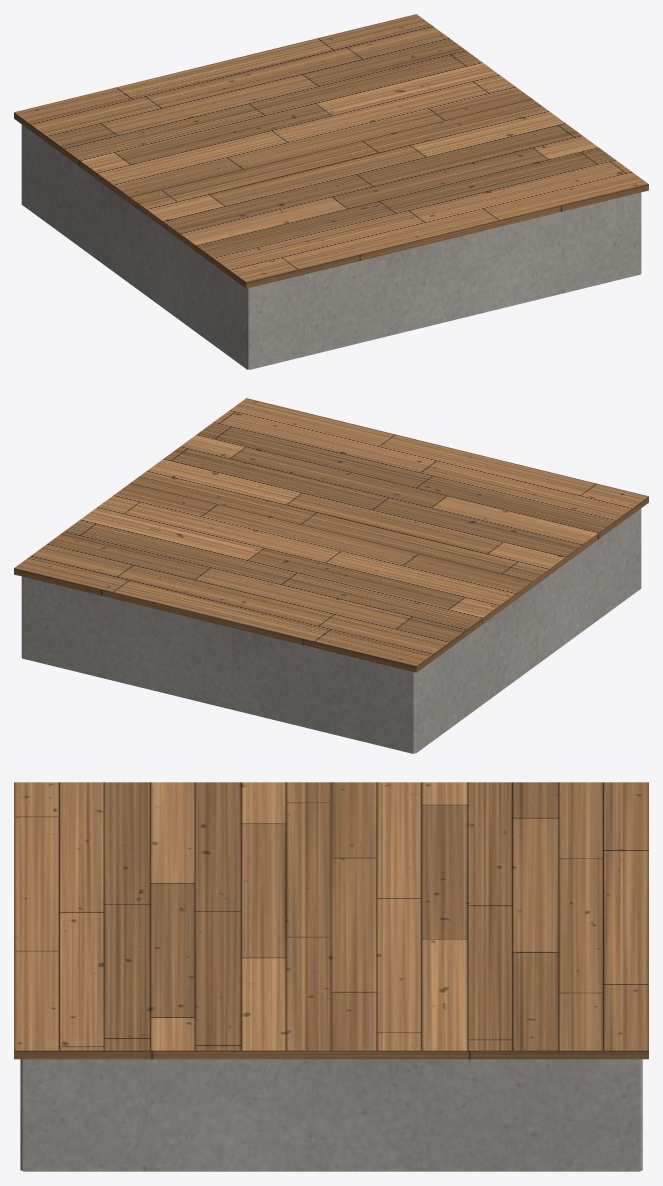
Rendered from floor_wood.glb.
3 views of the same model, one above another, from view 1: azimuth 30°, elevation 25°; view 2: azimuth 150°, elevation 25°; view 3: azimuth 270°, elevation 25° (orthographic). The views are drawn at different scales.
Visible parts, largest first — view 1: floor_wood_floor, floor_wood_concrete; view 2: floor_wood_floor, floor_wood_concrete; view 3: floor_wood_floor, floor_wood_concrete.
Boxes of the visible parts, x1,y1,x2,y2 form: floor_wood_floor: (14,14,648,288); floor_wood_concrete: (21,124,641,369); floor_wood_floor: (14,398,648,672); floor_wood_concrete: (21,508,641,753); floor_wood_floor: (14,782,648,1059); floor_wood_concrete: (20,1059,642,1171).
Size of the model in its own units: 2 by 0.43 by 2.
2 materials, 2 textured.
